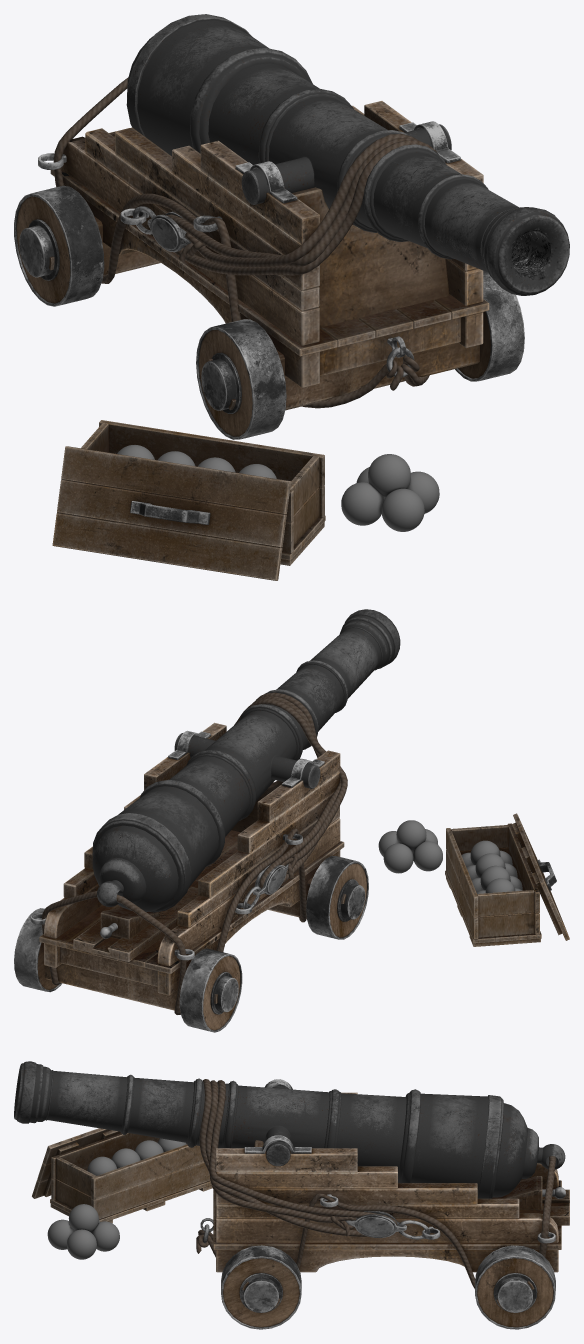
The model's file is 18th_century_cannon.glb.
3 views of the same model, one above another, from view 1: azimuth 30°, elevation 25°; view 2: azimuth 150°, elevation 25°; view 3: azimuth 270°, elevation 25° (orthographic). The views are drawn at different scales.
Parts seen in each view (by area): view 1: Object_5, Object_2, Object_7, Object_3, Object_4, Object_6; view 2: Object_2, Object_5, Object_3, Object_7, Object_4, Object_6; view 3: Object_2, Object_5, Object_3, Object_7, Object_4, Object_6.
Part boxes in pixels (<box>): Object_5: <box>50,101,489,410</box>; Object_2: <box>126,14,569,295</box>; Object_7: <box>52,420,439,580</box>; Object_3: <box>14,121,524,439</box>; Object_4: <box>53,77,492,439</box>; Object_6: <box>81,423,424,531</box>; Object_2: <box>92,609,400,912</box>; Object_5: <box>39,722,344,1010</box>; Object_3: <box>14,730,368,1032</box>; Object_7: <box>378,813,569,946</box>; Object_4: <box>42,692,360,1014</box>; Object_6: <box>411,829,534,937</box>; Object_2: <box>14,1061,565,1198</box>; Object_5: <box>213,1092,569,1272</box>; Object_3: <box>199,1084,555,1329</box>; Object_7: <box>32,1128,212,1259</box>; Object_4: <box>196,1079,556,1329</box>; Object_6: <box>47,1138,186,1249</box>.
Bounding box in the file's own units: 249 × 142 × 326.
4 materials, 4 textured.
